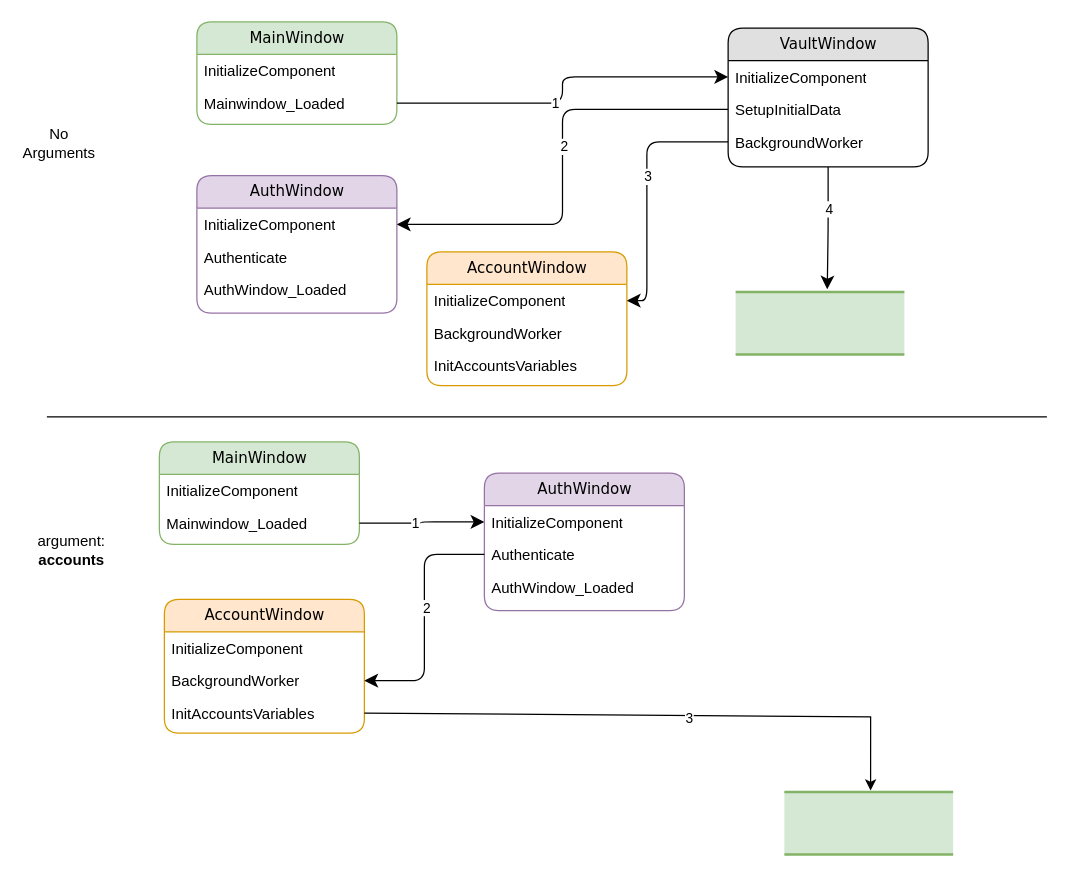
Some shapes in this 1070 by 878 pixel diagram are drawn without their labels. Here are the shapes that lost their labels. From the top down, the box of each, then its label:
(734, 290, 905, 355): VaultWindow Displayed
(782, 790, 954, 855): AccousWindow Displayed
